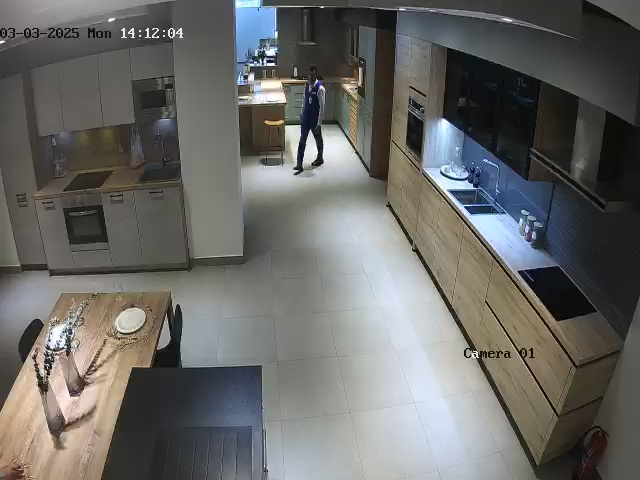employee: (292, 64, 326, 175)
